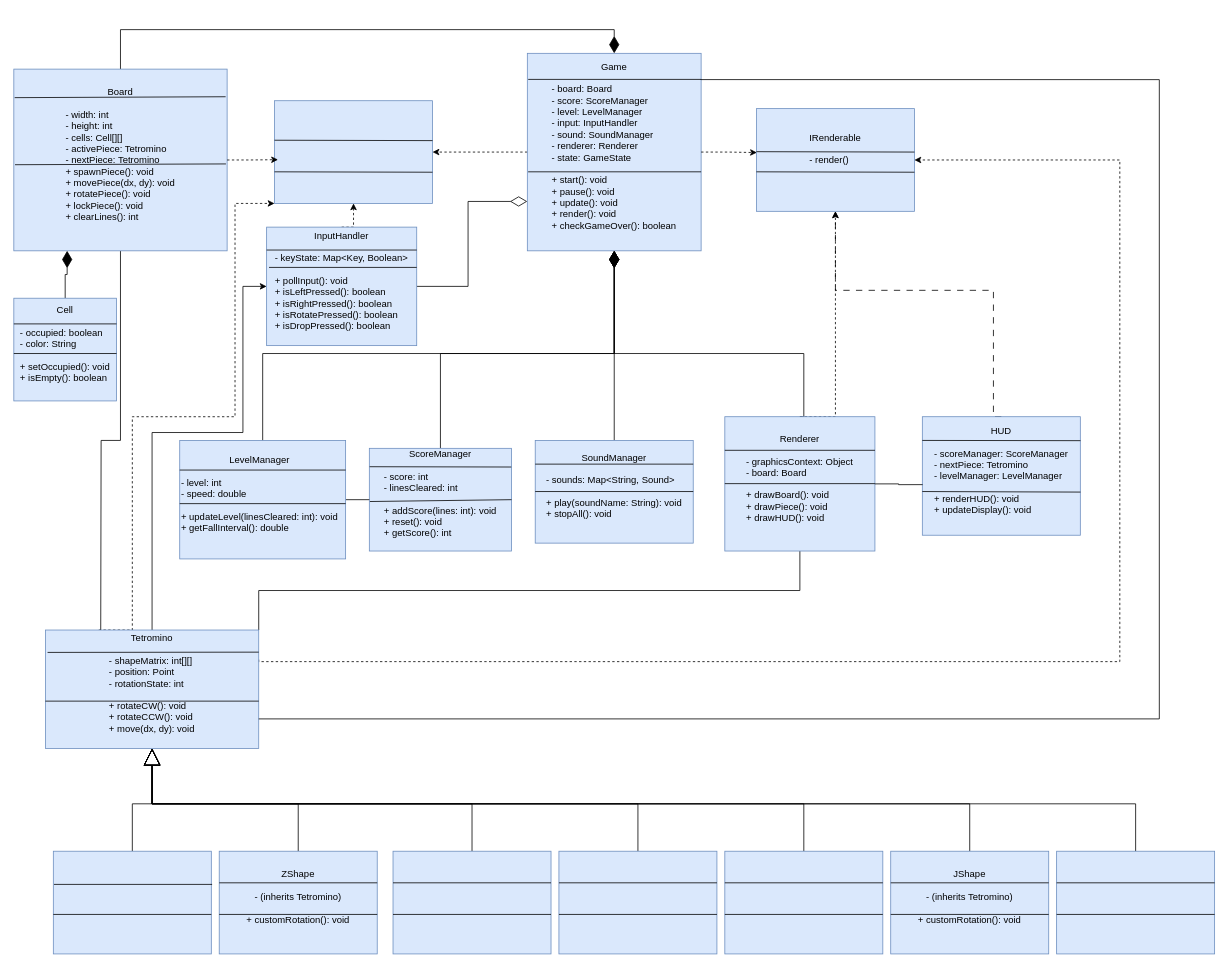
This 1229x968 diagram has some shape labels left out. Here are the shapes that lost their labels. From the top down, the centre of each, then its label:
(x=353, y=151): IUpdatable - update(deltaMs: long)
(x=132, y=902): IShape - (inherits Tetromino) + customRotation(): void
(x=471, y=902): OShape - (inherits Tetromino) + customRotation(): void
(x=637, y=902): TShape - (inherits Tetromino) + customRotation(): void
(x=803, y=902): LShape - (inherits Tetromino) + customRotation(): void
(x=1135, y=902): SShape - (inherits Tetromino) + customRotation(): void
